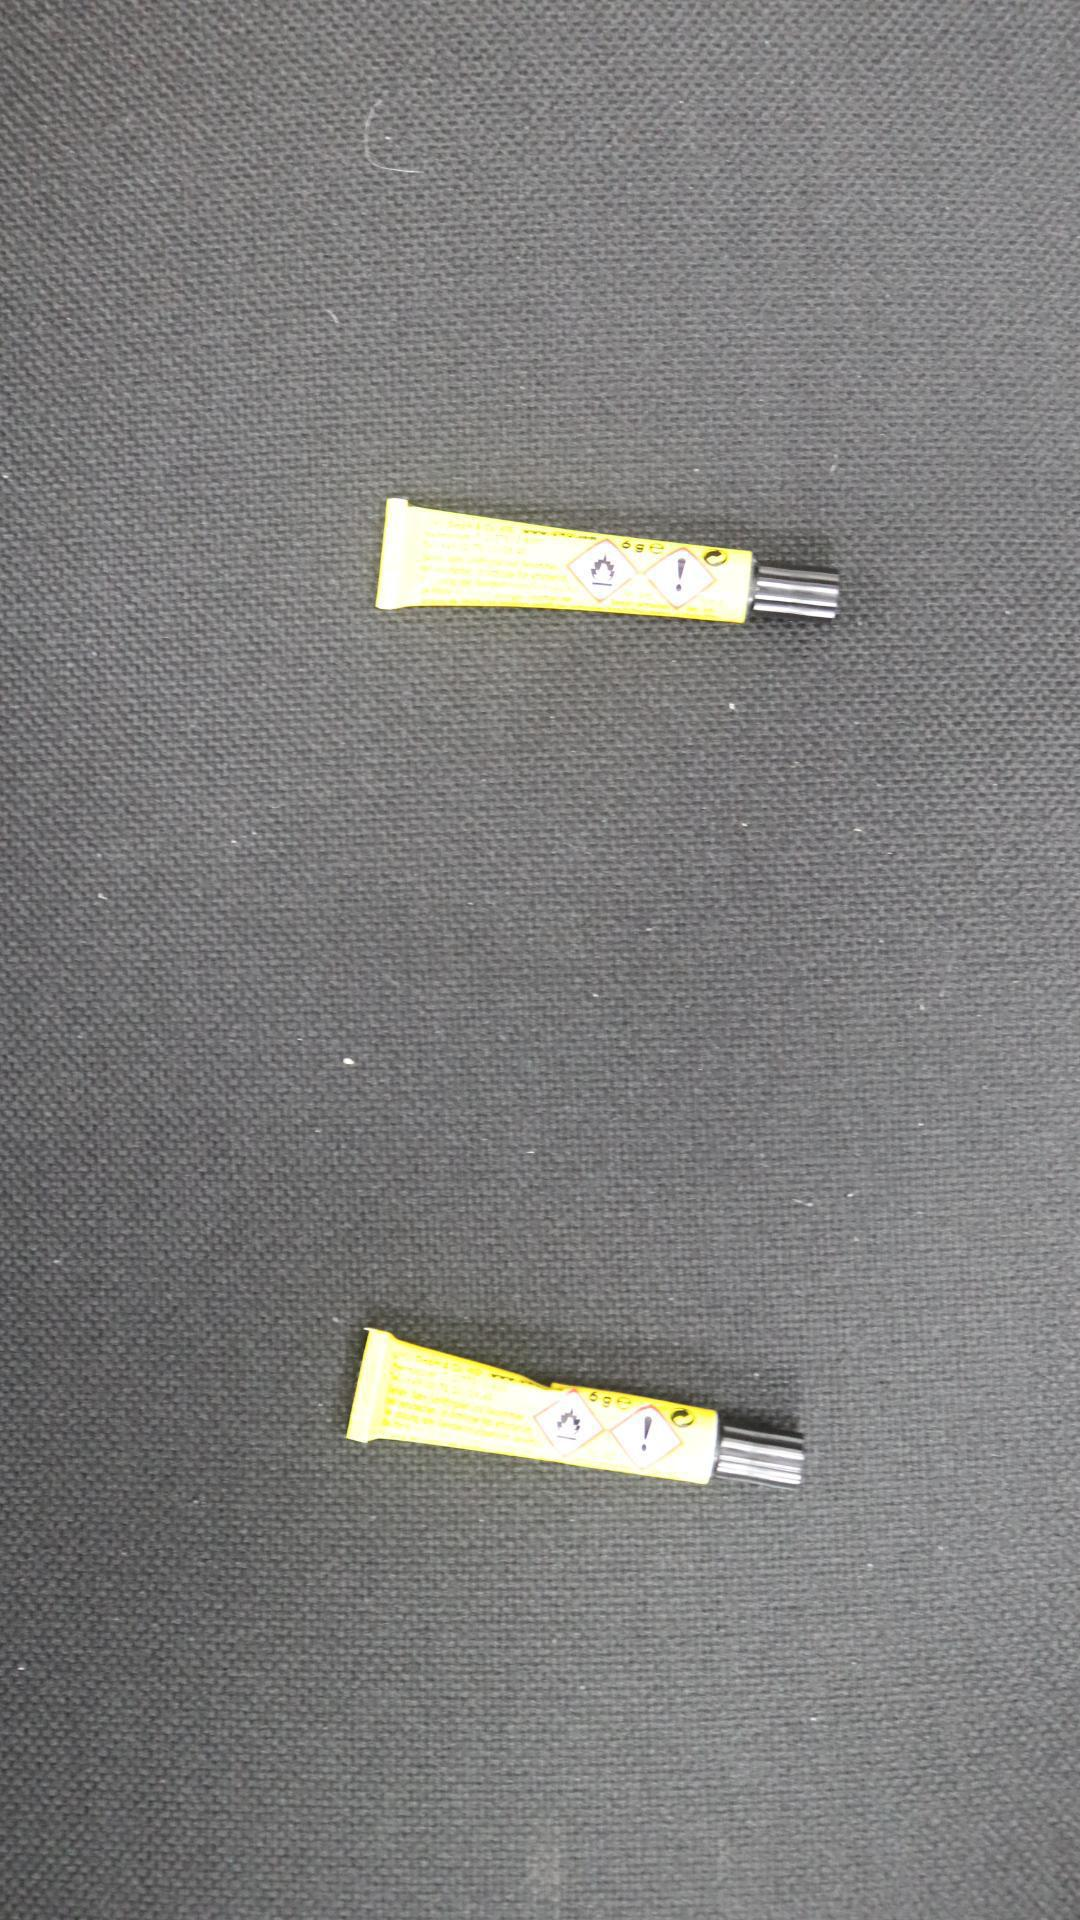Head: (789, 588, 799, 598), (758, 1453, 767, 1463)
Tail: (358, 1385, 371, 1397), (384, 551, 396, 562)
Tube: (348, 1328, 806, 1496), (374, 495, 845, 625)
